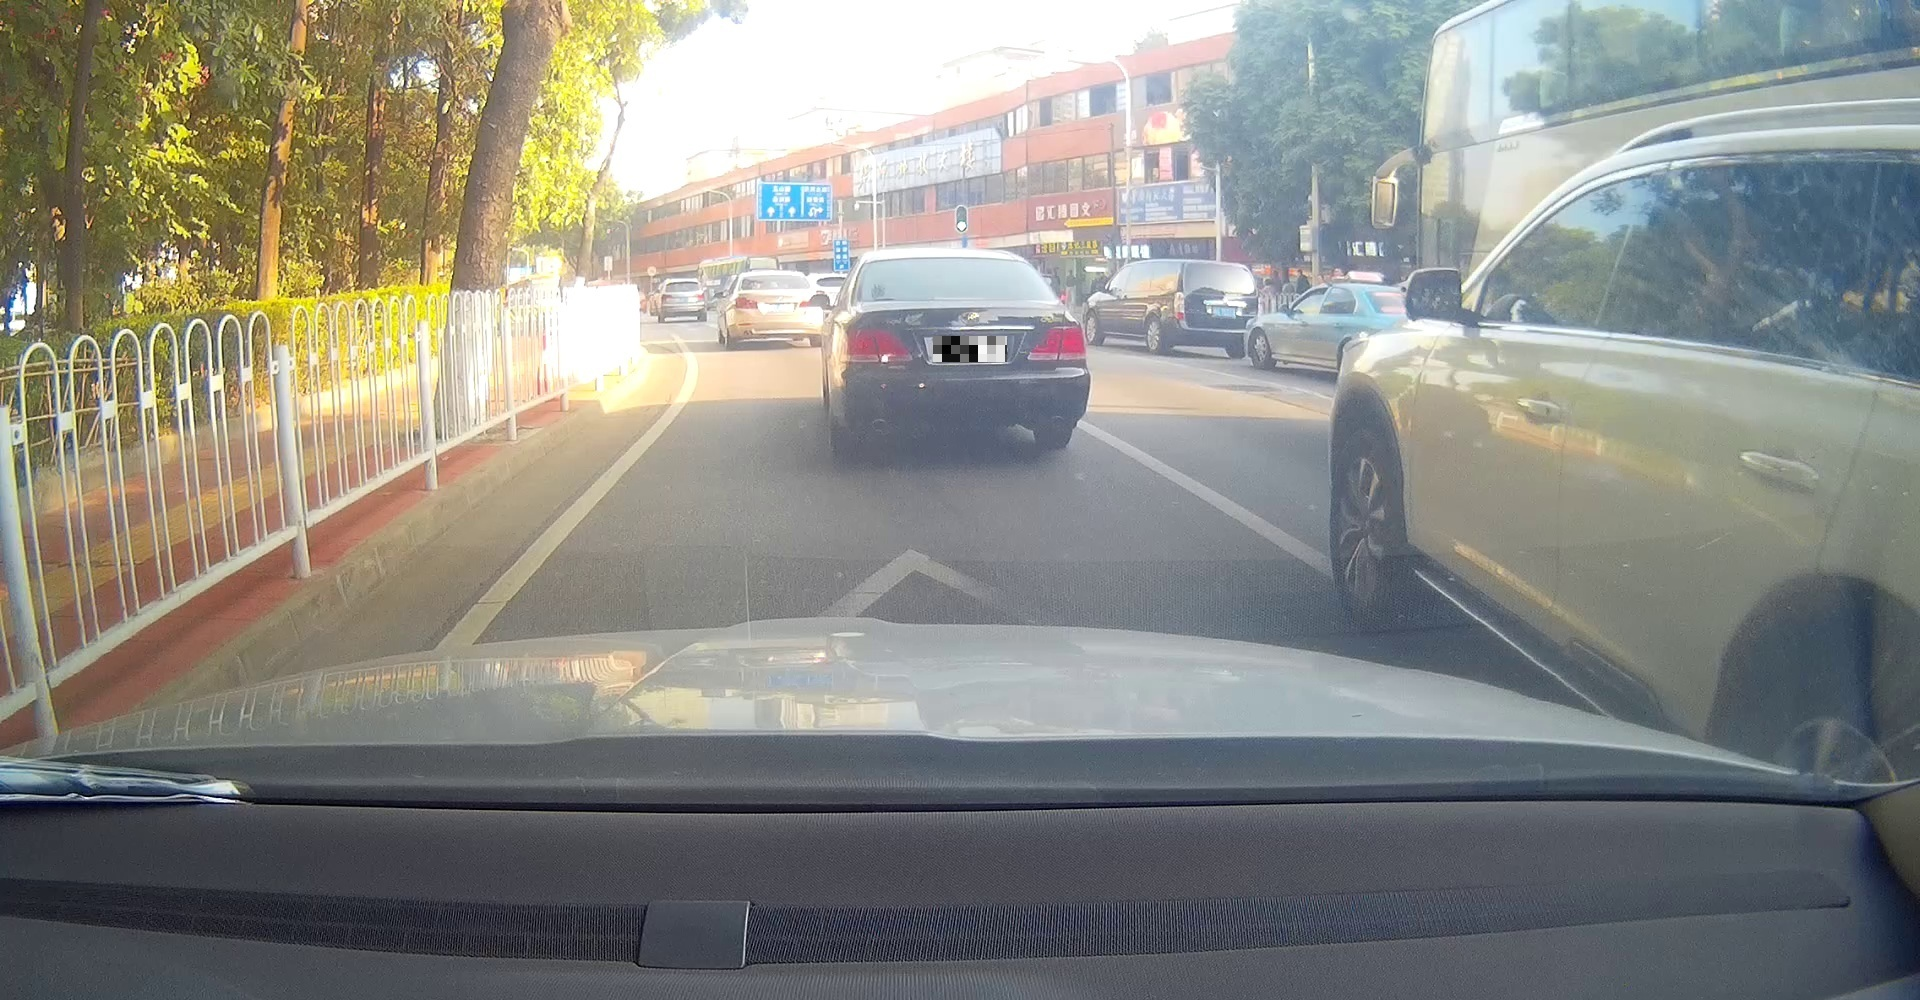L_light: (839, 327, 913, 362), (662, 294, 672, 301)
R_light: (1027, 326, 1087, 360), (696, 293, 705, 299)
T_light: (932, 294, 985, 299), (679, 282, 686, 283)
day-no: (837, 247, 1091, 456), (660, 278, 707, 324)
plate_1: (933, 336, 1007, 362)
